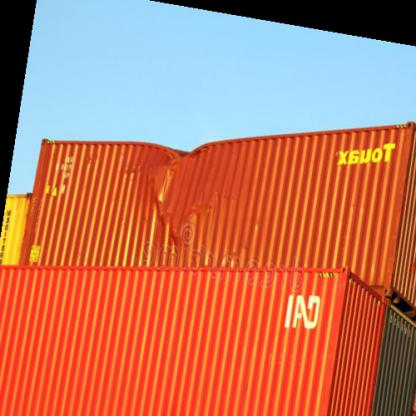Damage: (148, 138, 217, 234)
